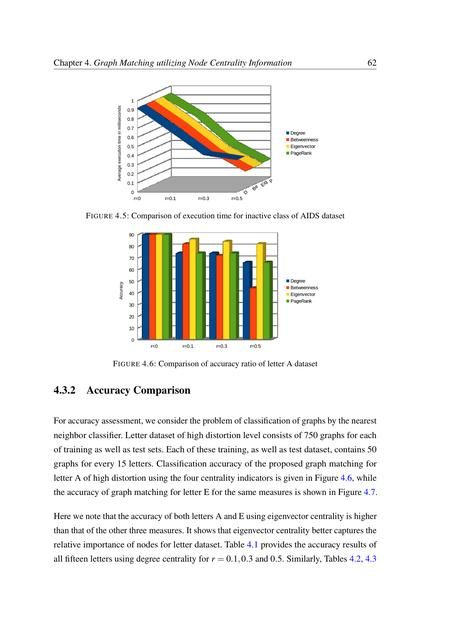box: (118, 231, 324, 355), (116, 83, 320, 205)
